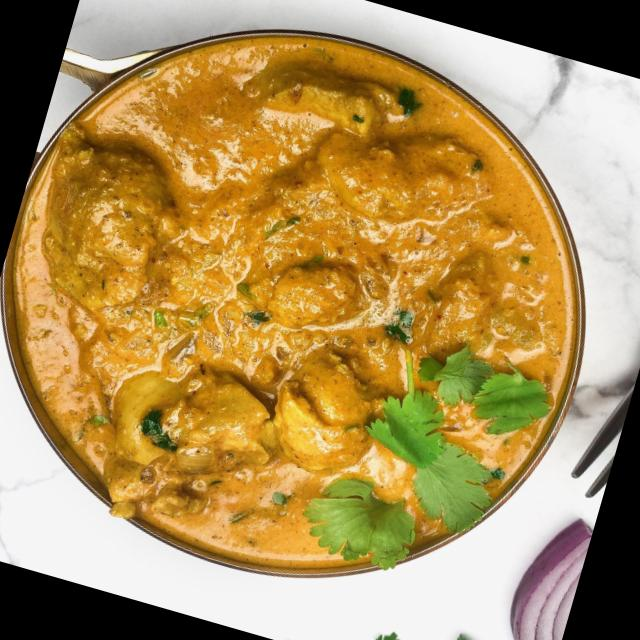chicken: (0, 0, 626, 629)
